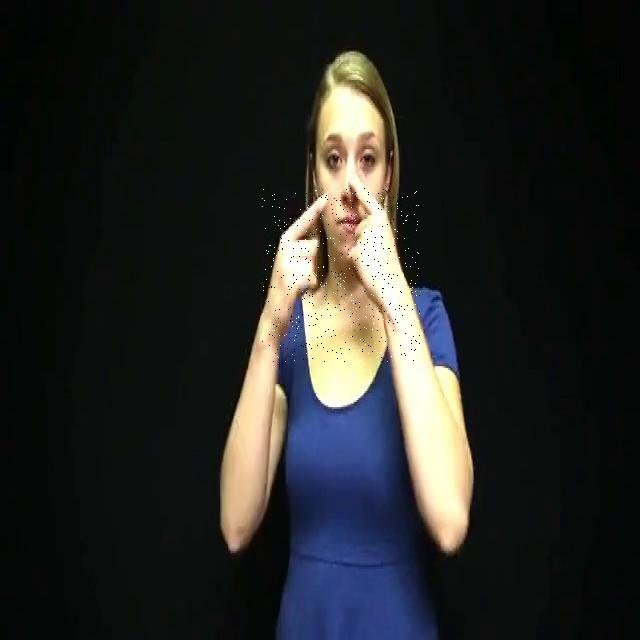allergy: (262, 188, 420, 362)
